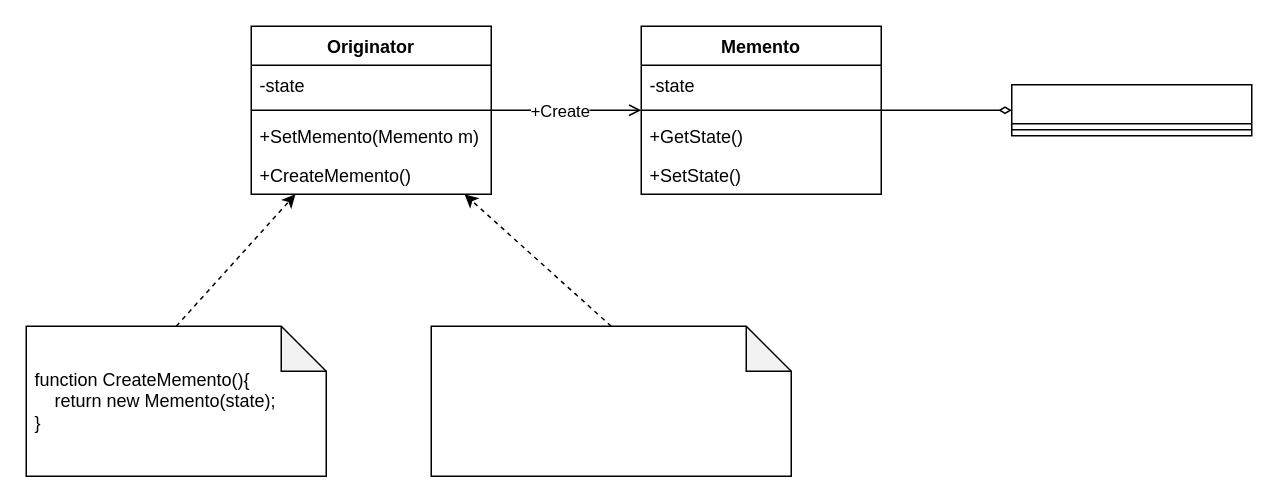
The diagram is 1278 pixels wide and 503 high, and some of its shapes have lost their labels. The shapes that lost their labels are listed below. From the top down, each one's centre as x and y in pixels, then its label:
At (1131,109): "Caretaker".
At (610,400): "function SetMemento(Memento m){ state = m.GetState(); }".
